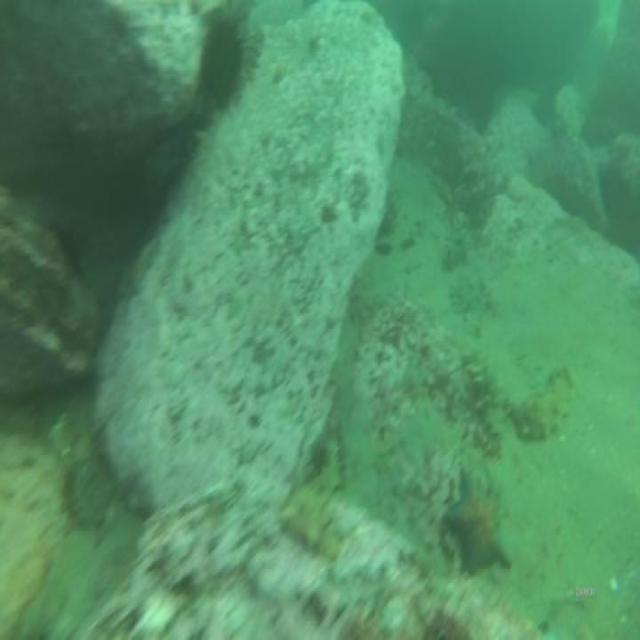echinus: (197, 16, 248, 114)
holothurian: (279, 474, 341, 567), (507, 362, 575, 441)
starfish: (448, 463, 512, 574)
